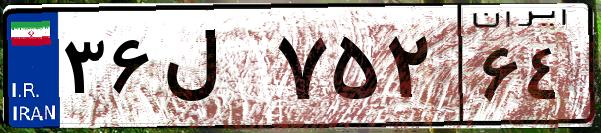2: (385, 28, 445, 110)
3: (57, 26, 110, 100)
4: (525, 38, 570, 115)
5: (330, 28, 385, 110)
6: (475, 38, 525, 113), (110, 28, 158, 98)
7: (270, 28, 330, 110)
ل: (158, 20, 270, 120)
